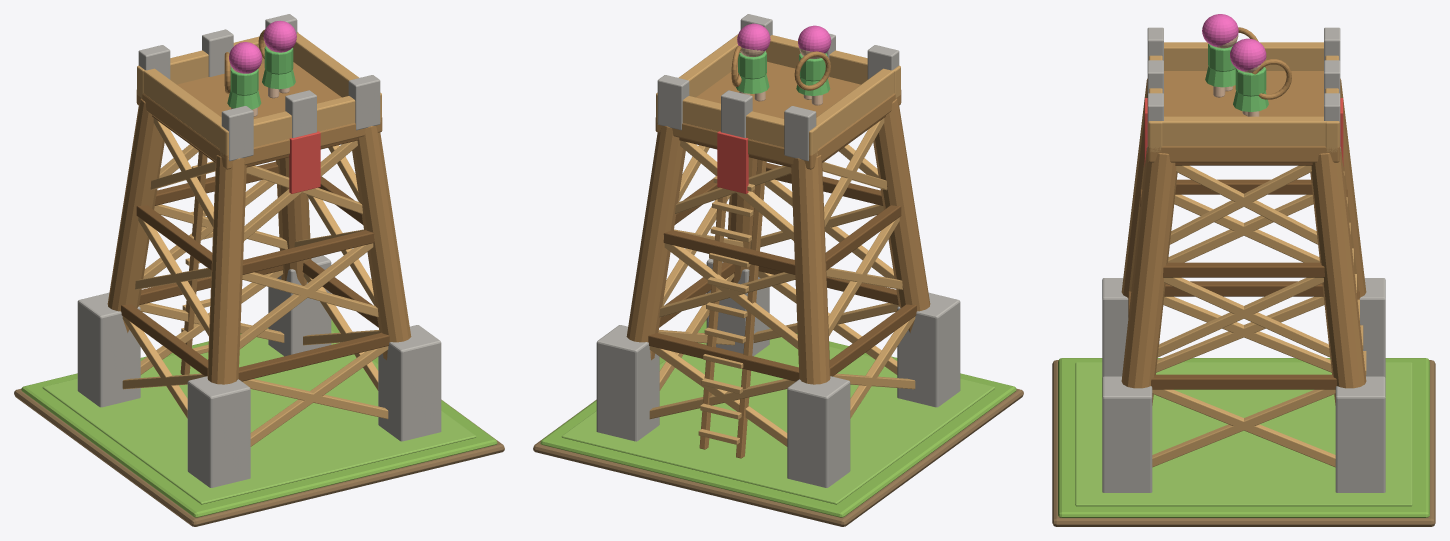
The model's file is archer_tower_lv3.glb.
3 views of the same model, side by side, from view 1: azimuth 30°, elevation 25°; view 2: azimuth 150°, elevation 25°; view 3: azimuth 270°, elevation 25° (orthographic). The views are drawn at different scales.
Parts seen in each view (by area): view 1: Base_Inner, Base_Grass, TowerLeg_-1_-1, LegFooting_-1_-1, TowerLeg_1_-1, LegFooting_1_-1, LegFooting_-1_1, TopDeck, TowerLeg_-1_1, Base_Dirt, LegFooting_1_1, ParapetLR_-1 (+41 smaller); view 2: Base_Inner, Base_Grass, TowerLeg_-1_1, LegFooting_-1_1, TowerLeg_1_1, LegFooting_1_1, TopDeck, LegFooting_-1_-1, TowerLeg_-1_-1, Base_Dirt, ParapetLR_-1, ParapetFB_1 (+40 smaller); view 3: Base_Inner, Base_Grass, TopDeck, TowerLeg_1_1, TowerLeg_1_-1, LegFooting_1_1, LegFooting_1_-1, Base_Dirt, ParapetLR_1, HorizBeamY_0_1, ParapetLR_-1, HorizBeamY_1_1 (+32 smaller).
Boxes of the visible parts, box(x1,y1,x2,y2) form: Base_Inner: box(42, 330, 476, 504); Base_Grass: box(21, 319, 497, 517); TowerLeg_-1_-1: box(207, 155, 246, 384); LegFooting_-1_-1: box(187, 376, 250, 487); TowerLeg_1_-1: box(352, 126, 411, 360); LegFooting_1_-1: box(378, 325, 441, 441); LegFooting_-1_1: box(77, 292, 140, 407); TopDeck: box(136, 62, 382, 169); TowerLeg_-1_1: box(107, 98, 164, 332); Base_Dirt: box(14, 388, 504, 526); LegFooting_1_1: box(268, 255, 331, 356); ParapetLR_-1: box(137, 65, 228, 159); Base_Inner: box(561, 331, 995, 504); Base_Grass: box(540, 319, 1016, 517); TowerLeg_-1_1: box(791, 155, 830, 384); LegFooting_-1_1: box(787, 376, 850, 487); TowerLeg_1_1: box(626, 126, 685, 360); LegFooting_1_1: box(596, 325, 659, 441); TopDeck: box(655, 61, 901, 169); LegFooting_-1_-1: box(897, 292, 960, 407); TowerLeg_-1_-1: box(873, 98, 930, 332); Base_Dirt: box(533, 388, 1023, 526); ParapetLR_-1: box(809, 65, 900, 159); ParapetFB_1: box(656, 92, 817, 156); Base_Inner: box(1075, 362, 1412, 506); Base_Grass: box(1058, 358, 1429, 517); TopDeck: box(1148, 71, 1339, 162); TowerLeg_1_1: box(1310, 147, 1366, 405); TowerLeg_1_-1: box(1121, 147, 1177, 405); LegFooting_1_1: box(1335, 376, 1385, 492); LegFooting_1_-1: box(1102, 376, 1152, 492); Base_Dirt: box(1052, 360, 1435, 526); ParapetLR_1: box(1148, 116, 1339, 146); HorizBeamY_0_1: box(1151, 374, 1336, 389); ParapetLR_-1: box(1164, 42, 1323, 70); HorizBeamY_1_1: box(1163, 262, 1324, 277).
Bounding box in the file's own units: 2.76 × 3.33 × 2.76.
